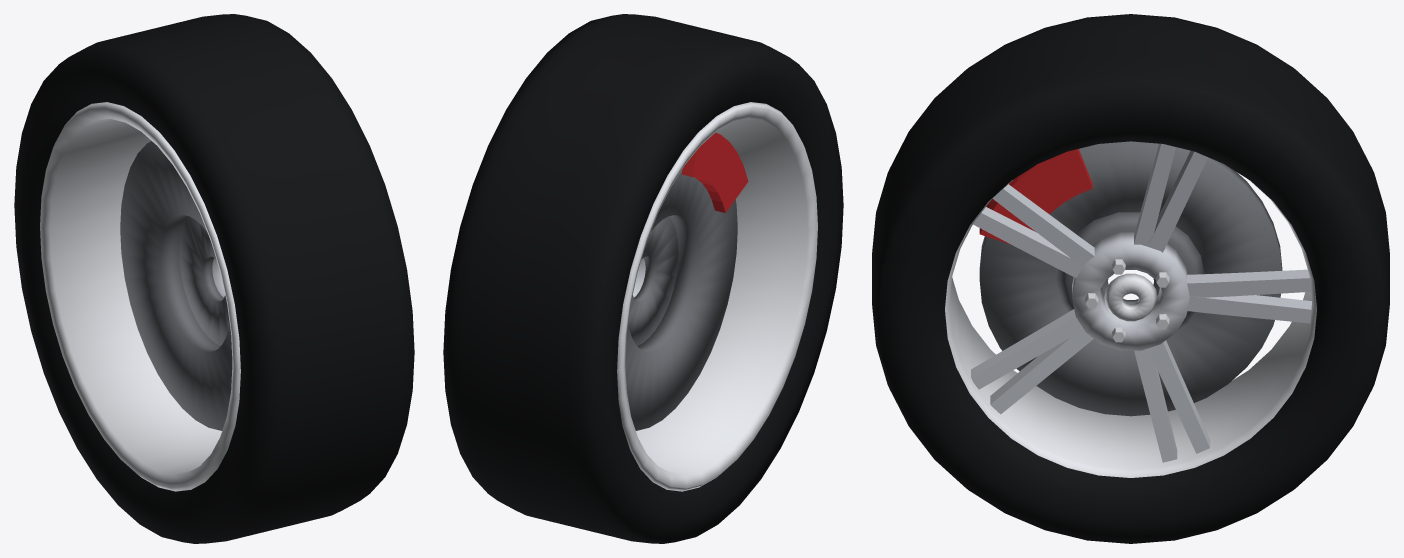
File: w01_split5_19.glb
3 views of the same model, side by side, from view 1: azimuth 30°, elevation 25°; view 2: azimuth 150°, elevation 25°; view 3: azimuth 270°, elevation 25° (orthographic).
Parts seen in each view (by area): view 1: wheel, brake; view 2: wheel, brake; view 3: wheel, brake.
Part boxes in pixels (bbox=[...]): wheel: bbox=[14, 14, 414, 543]; brake: bbox=[120, 141, 232, 430]; wheel: bbox=[443, 14, 843, 543]; brake: bbox=[625, 132, 748, 430]; wheel: bbox=[872, 14, 1389, 543]; brake: bbox=[979, 141, 1282, 416].
Size of what is drawn, in the model's own units: 0.235 by 0.66 by 0.66.
